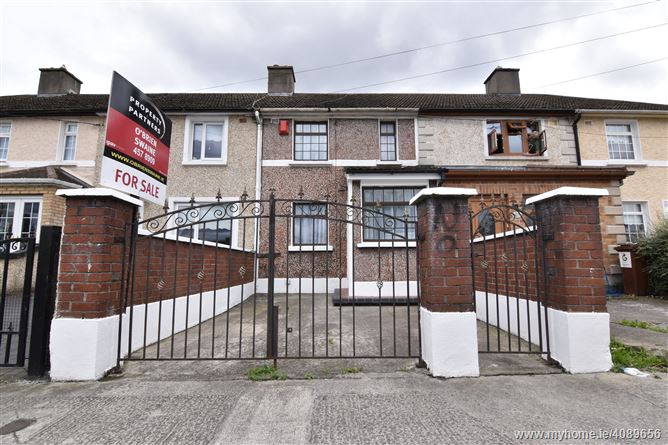property sign: (90, 58, 178, 214)
